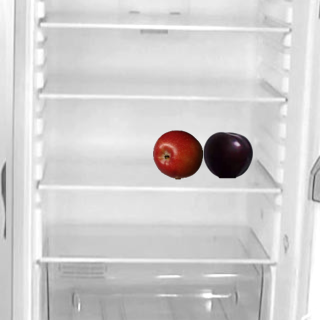Apple Braeburn: (152, 129, 202, 179)
Cherry Wax Black: (202, 129, 252, 179)
